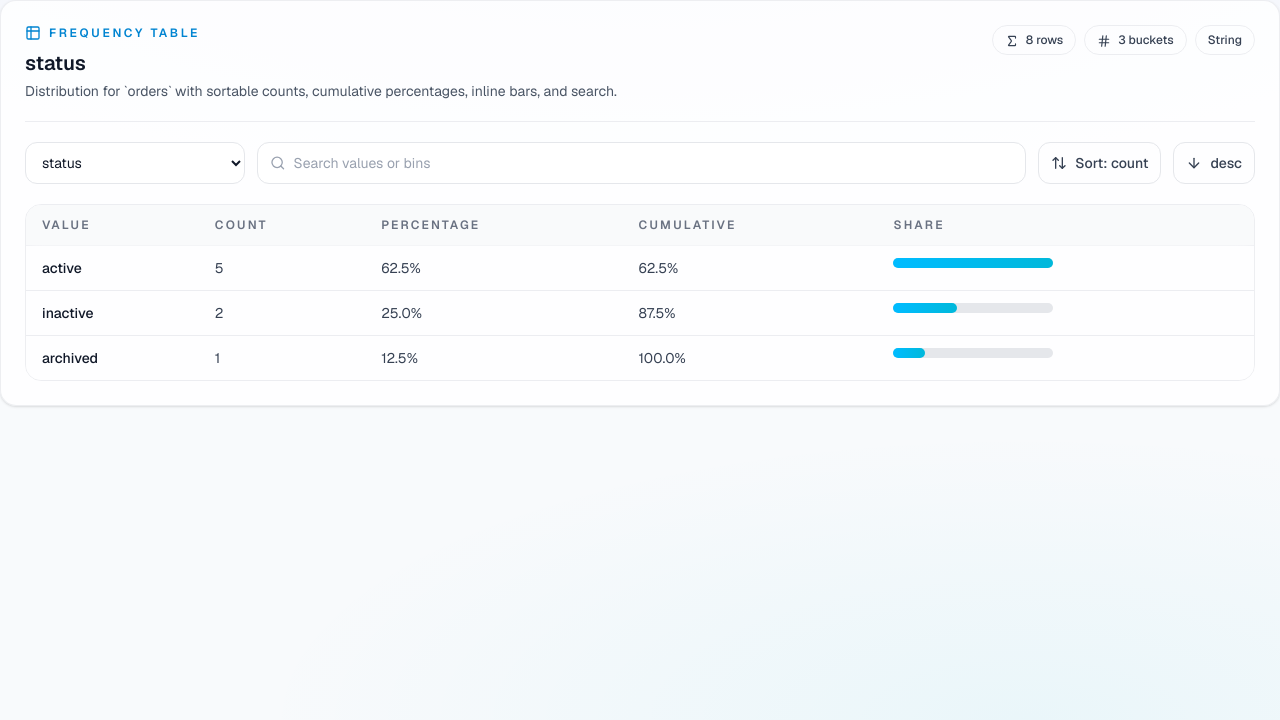
Test: FrequencyTable › renders categorical frequencies and supports sorting and search
Check: the text "active" is shown, box [26,246,199,290]
Click the button "desc": [1214, 163] box [1173,142,1255,184]
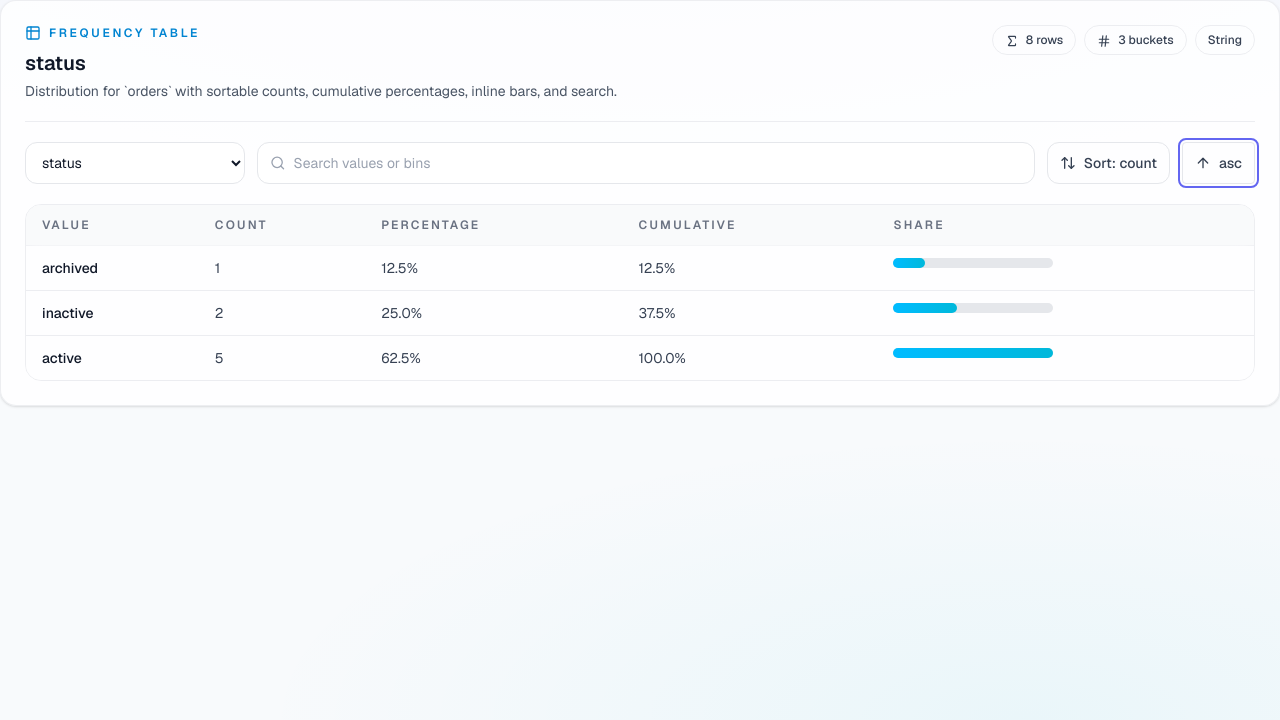
In the field with placeholder "Search values or bins": [658, 163] box [294,143,1022,183], type "zzz"
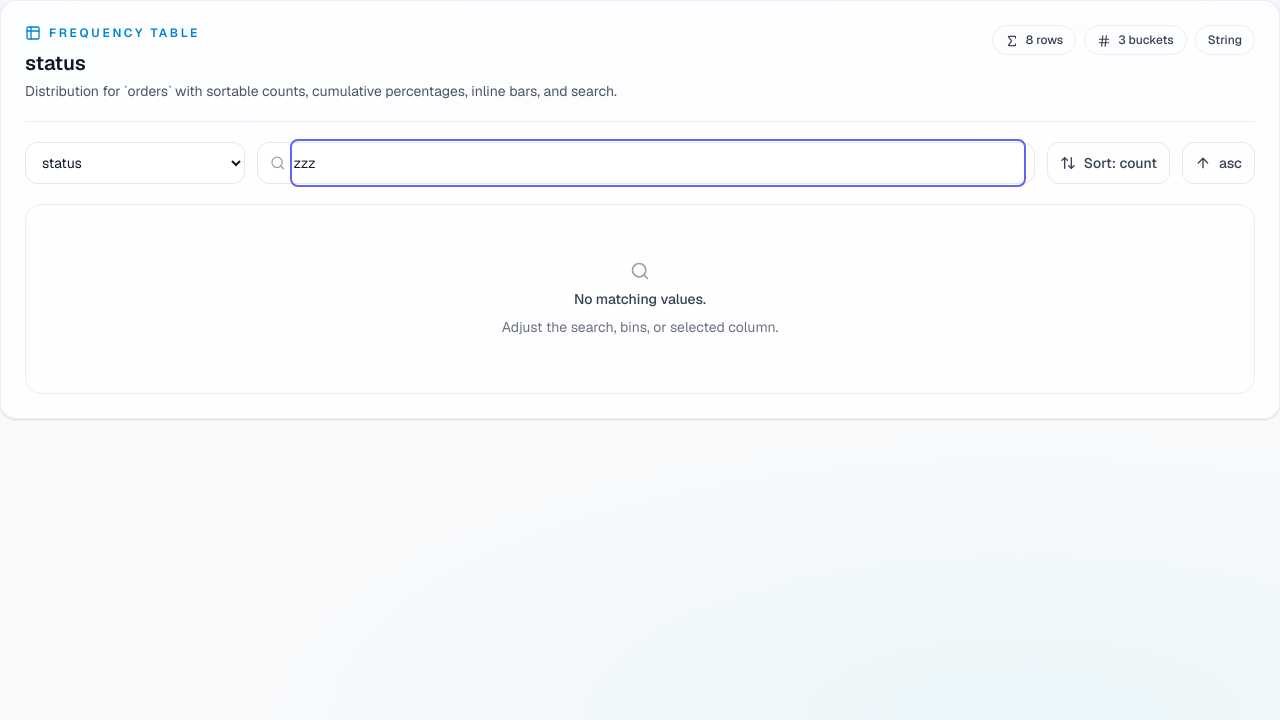
Check: the text "No matching values." is shown, box [574,289,706,309]
Check: the text "Adjust the search, bins, or selected column." is shown, box [502,317,778,337]
